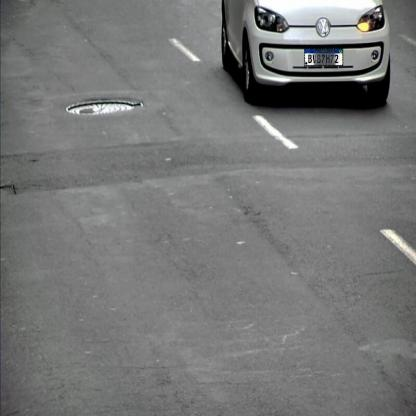PlacaM: (304, 48, 343, 66)
